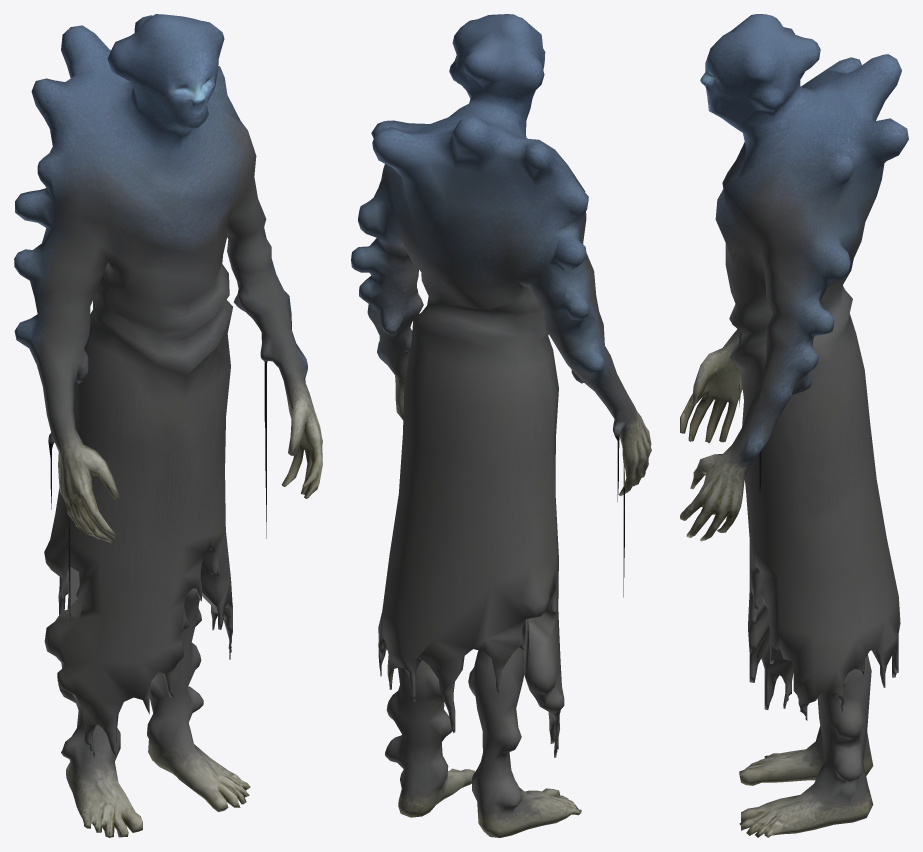
The picture shows the model from 3 angles, left to right: view 1: azimuth 30°, elevation 25°; view 2: azimuth 150°, elevation 25°; view 3: azimuth 270°, elevation 25°; orthographic projection. The views are drawn at different scales.
Visible parts, largest first — view 1: tripo_node_857da795-7175-4a05-821c-bbb40eef9121; view 2: tripo_node_857da795-7175-4a05-821c-bbb40eef9121; view 3: tripo_node_857da795-7175-4a05-821c-bbb40eef9121.
Part boxes in pixels (left/top/right/bottom): tripo_node_857da795-7175-4a05-821c-bbb40eef9121: left=14, top=14, right=322, bottom=837; tripo_node_857da795-7175-4a05-821c-bbb40eef9121: left=351, top=14, right=651, bottom=837; tripo_node_857da795-7175-4a05-821c-bbb40eef9121: left=680, top=14, right=908, bottom=837.
Size of the model in its own units: 0.3379 by 0.998 by 0.2637.
Materials: 1 (1 with a texture image).
